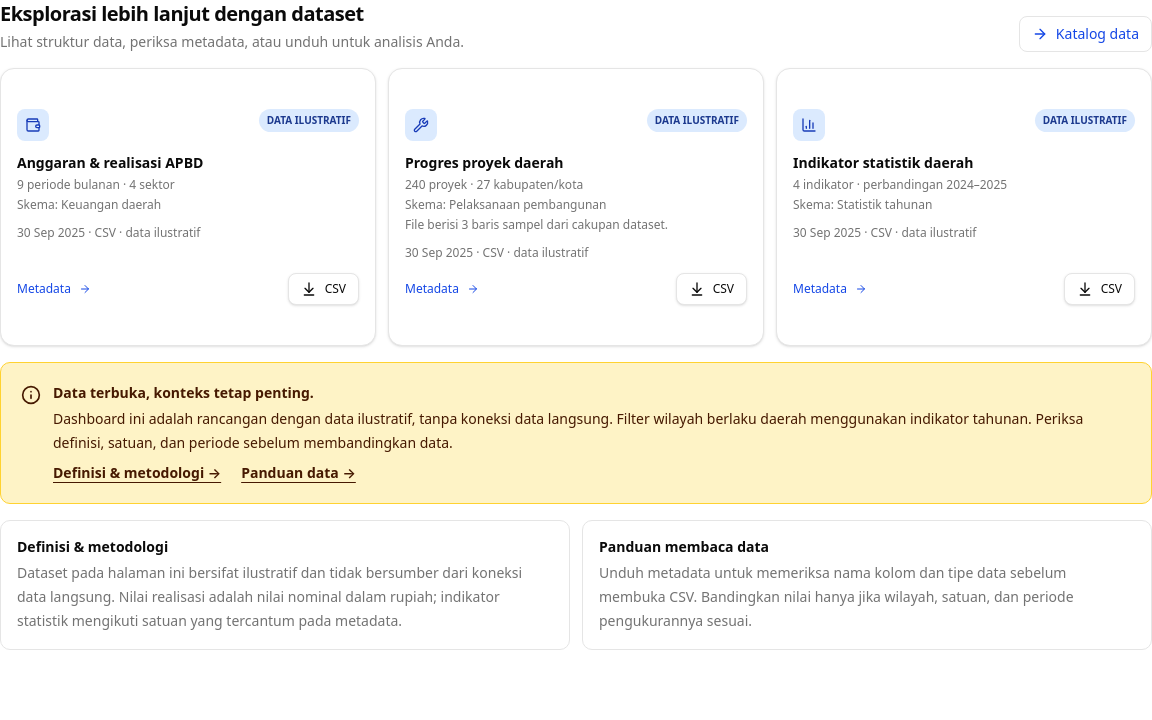
Test: DatasetCatalog › opens metadata with the selected dataset column names and types
Click the button named "Lihat metadata Anggaran & realisasi APBD": (54, 289) [17,273,91,305]
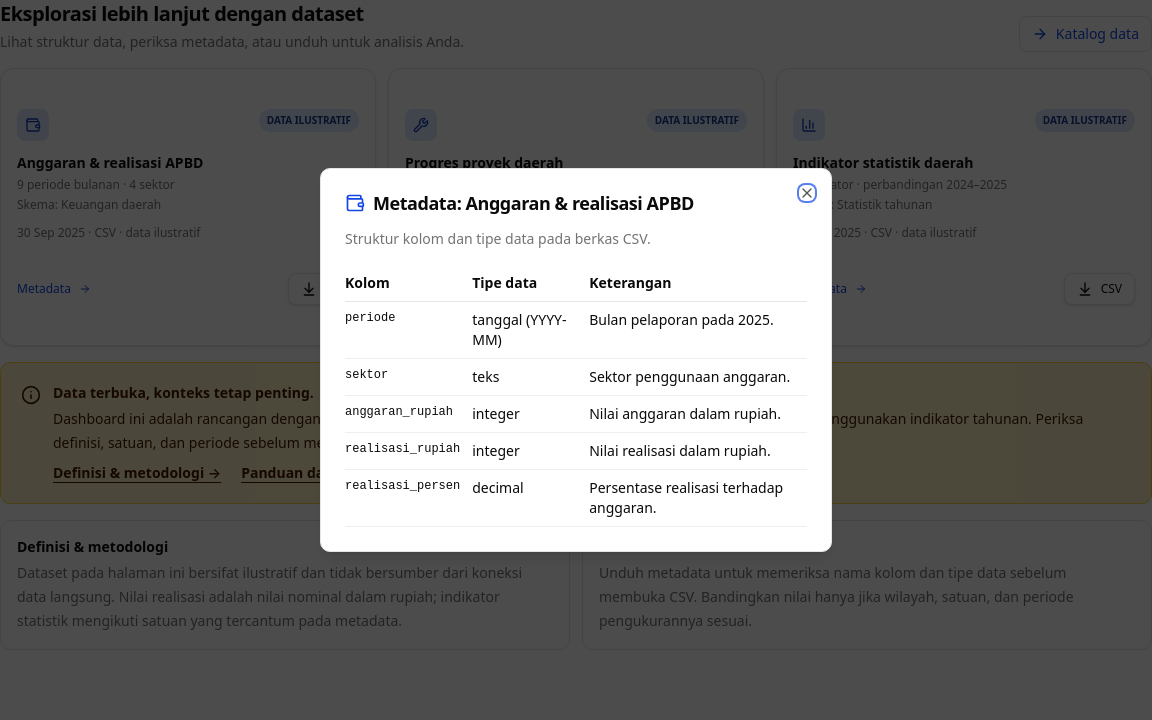
Result: the column heading "Kolom" is shown at [345,265,472,302]
Result: the column heading "periode" is shown at [345,302,472,358]
Result: the cell "tanggal (YYYY-MM)" is shown at [472,302,589,358]
